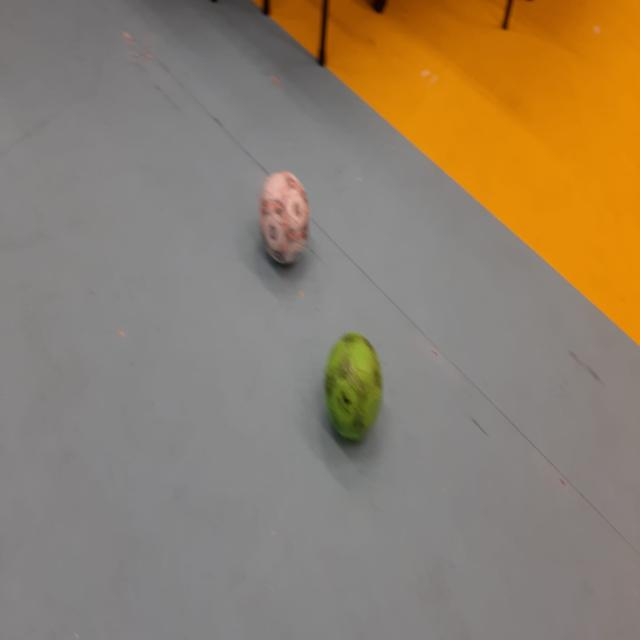ball: (324, 335, 382, 444), (261, 170, 310, 269)
